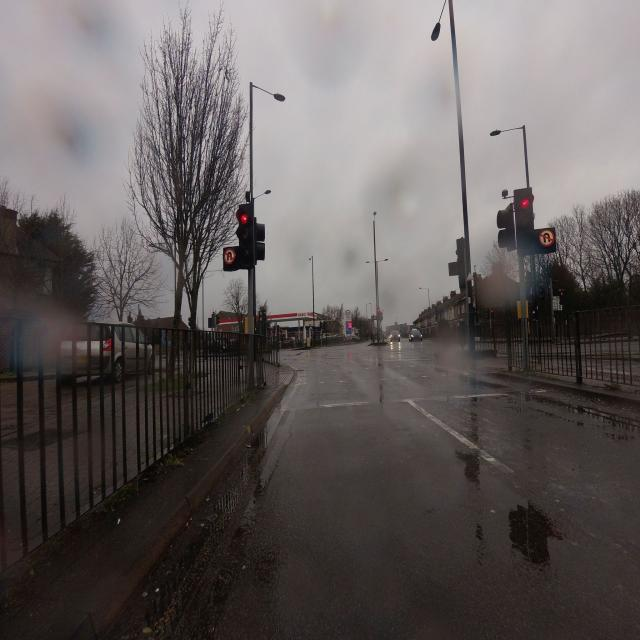car: (55, 319, 155, 386), (409, 328, 423, 342), (388, 329, 401, 343)
